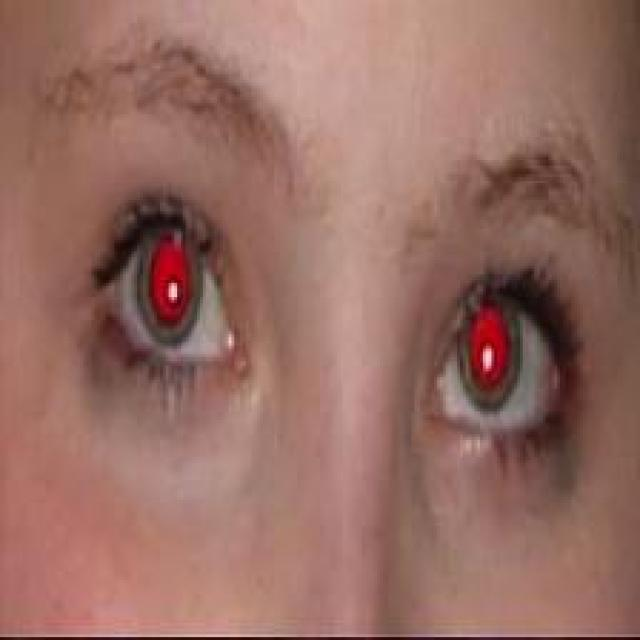reflexo-normal: (55, 181, 254, 410), (406, 256, 582, 476)
